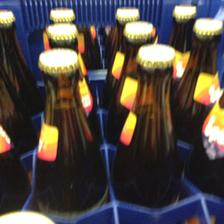Soda: (35, 47, 107, 218), (112, 42, 180, 206)
